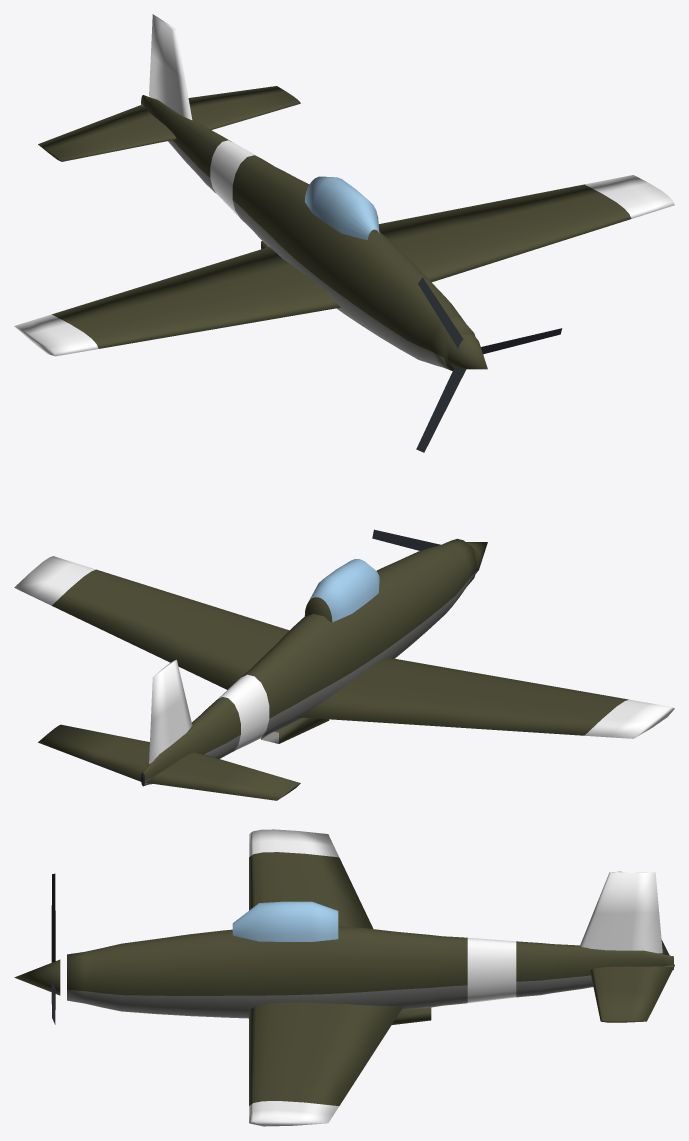
3 views of the same model, one above another, from view 1: azimuth 30°, elevation 25°; view 2: azimuth 150°, elevation 25°; view 3: azimuth 270°, elevation 25° (orthographic). The views are drawn at different scales.
Visible parts, largest first — view 1: body, prop; view 2: body, prop; view 3: body, prop.
Part boxes in pixels (<box>): body: <box>14,14,674,370</box>; prop: <box>416,277,562,452</box>; body: <box>14,538,674,800</box>; prop: <box>372,529,487,573</box>; body: <box>67,829,674,1126</box>; prop: <box>14,873,60,1024</box>.
Bounding box in the file's own units: 10.36 × 3.15 × 10.
